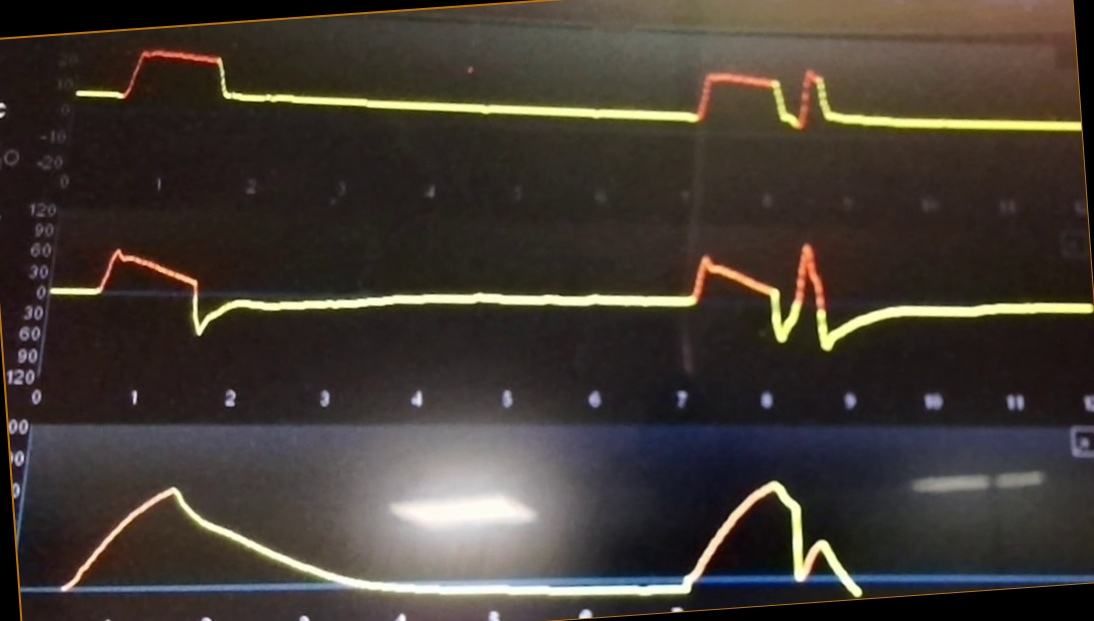Double_Triggering Flow: (476, 226, 1009, 372)
Double_Triggering Volume: (415, 473, 868, 600)
